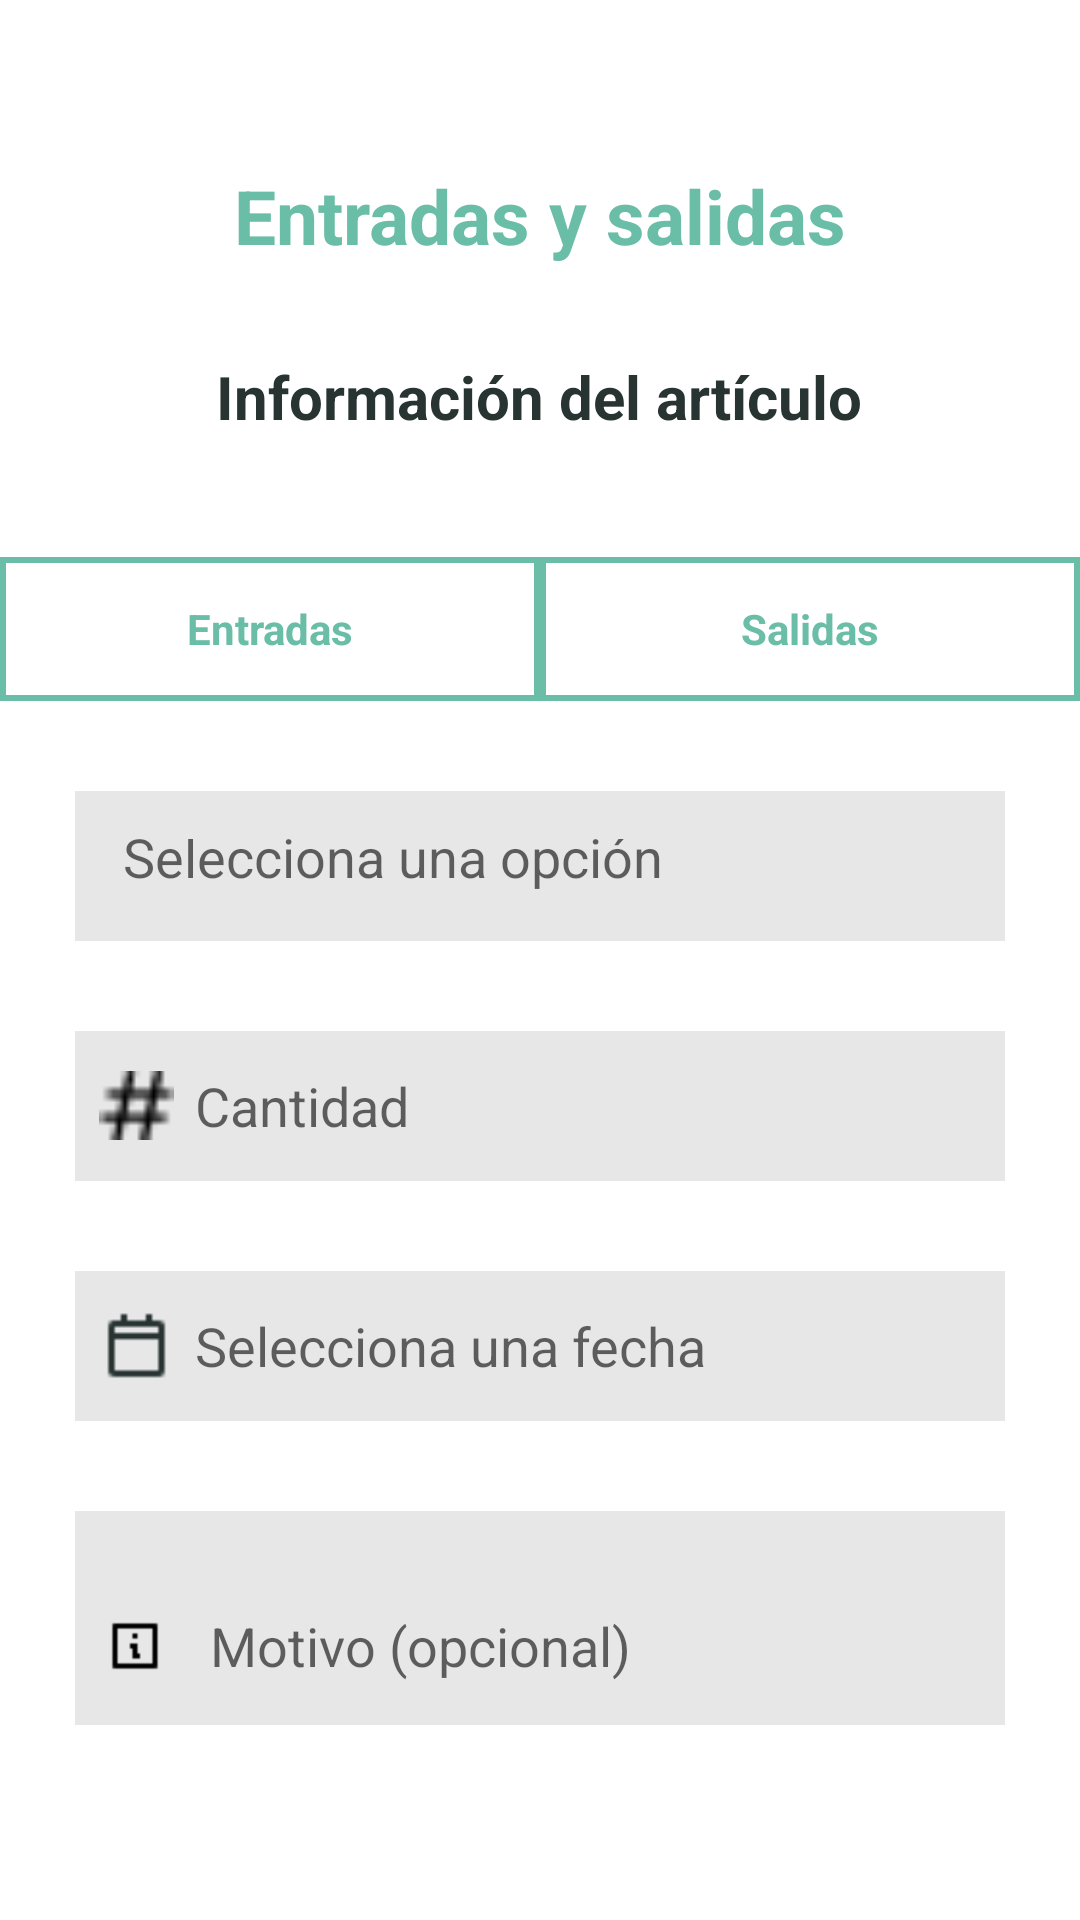

Where icons sit on this 1080x1920 app screen, as (x1, y1, x2, y2):
calendar: (107, 1313, 166, 1378)
info square: (112, 1623, 158, 1669)
